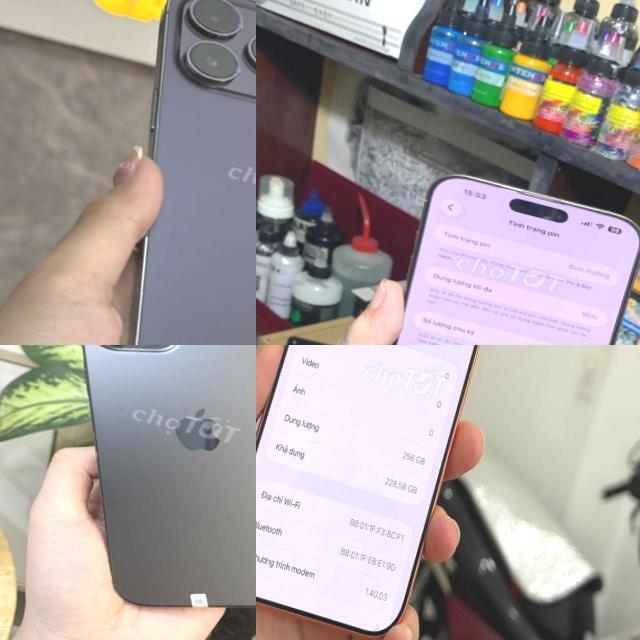gen_12_13: (0, 345, 256, 640)
gen_14: (54, 0, 256, 345)
gen_16: (394, 175, 640, 345)
gen_17: (256, 345, 542, 640)
